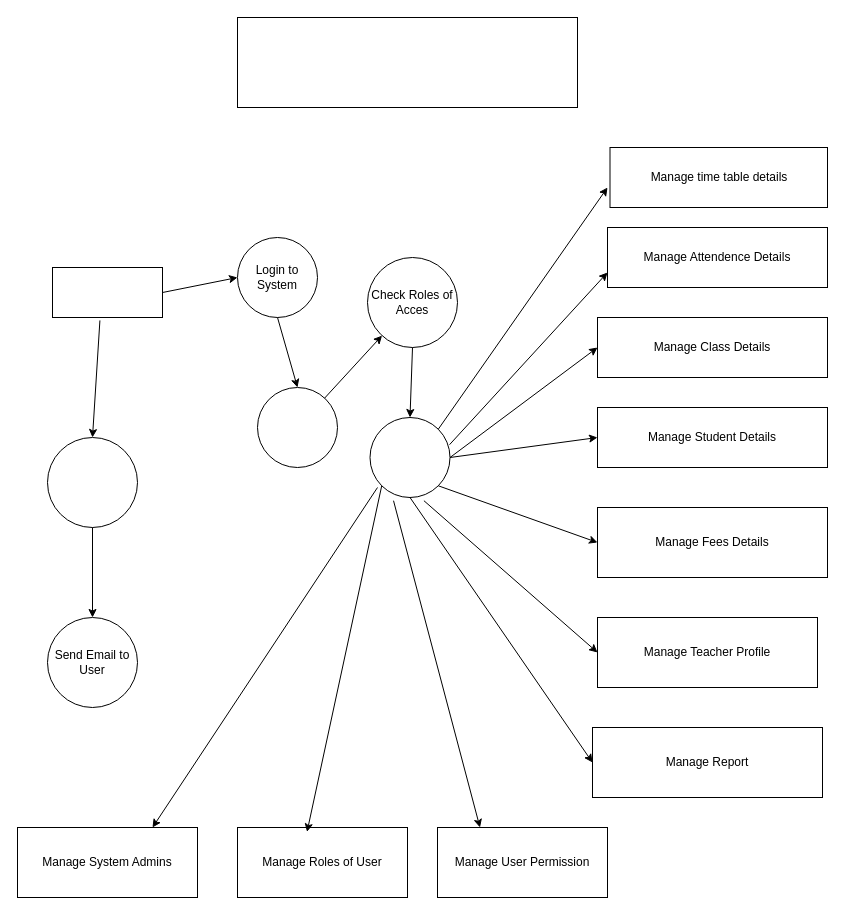
This 845x915 diagram has some shape labels left out. Each missing label, with the centre of its shape:
"Admin" goes at (107,292).
"Check Credentials" goes at (297,427).
"Forgot Password" goes at (92,482).
"Manage Modules" goes at (409,457).
"Student Information System" goes at (407,62).
